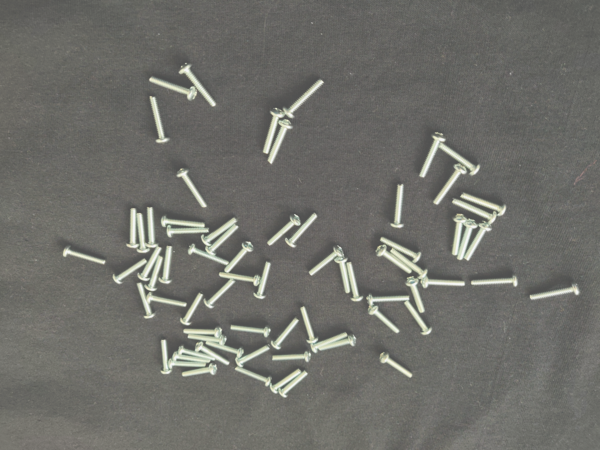longscrew: (282, 76, 325, 120), (178, 62, 217, 108), (432, 163, 468, 205), (439, 141, 482, 176), (418, 131, 447, 179), (176, 167, 209, 209), (148, 75, 198, 102), (389, 247, 429, 280), (452, 197, 498, 225), (267, 119, 294, 166), (285, 211, 319, 248), (379, 235, 422, 264), (267, 213, 302, 248), (460, 191, 507, 217), (201, 216, 240, 247), (374, 244, 413, 275), (147, 94, 171, 144), (465, 221, 494, 262), (205, 223, 240, 256), (262, 107, 286, 155), (309, 245, 345, 277), (186, 242, 230, 267), (403, 300, 433, 336), (224, 240, 255, 274), (203, 279, 237, 310), (270, 316, 301, 350), (379, 350, 414, 380), (367, 304, 401, 334), (529, 282, 582, 301), (61, 245, 106, 267), (310, 330, 349, 355), (136, 246, 163, 282), (112, 258, 148, 285), (457, 218, 479, 261), (278, 370, 310, 399), (234, 343, 271, 368), (195, 341, 230, 367), (179, 290, 204, 326), (234, 365, 273, 388), (270, 368, 303, 395), (404, 276, 427, 314), (136, 282, 158, 320), (161, 212, 206, 230), (144, 254, 165, 292), (253, 261, 273, 300), (177, 343, 216, 363), (334, 255, 354, 294), (299, 306, 319, 344), (319, 332, 357, 352), (146, 291, 188, 309), (390, 183, 406, 230), (346, 262, 364, 303), (451, 213, 468, 256), (205, 341, 245, 359), (230, 322, 272, 339), (218, 271, 261, 287), (366, 291, 411, 306), (421, 276, 466, 291), (166, 224, 210, 239), (271, 349, 312, 365), (470, 275, 520, 288), (125, 206, 140, 249), (145, 206, 160, 249), (158, 245, 174, 285), (182, 362, 219, 379), (136, 212, 151, 253), (172, 350, 212, 365), (187, 333, 228, 347), (158, 338, 173, 376), (182, 326, 224, 339), (169, 357, 208, 371)
